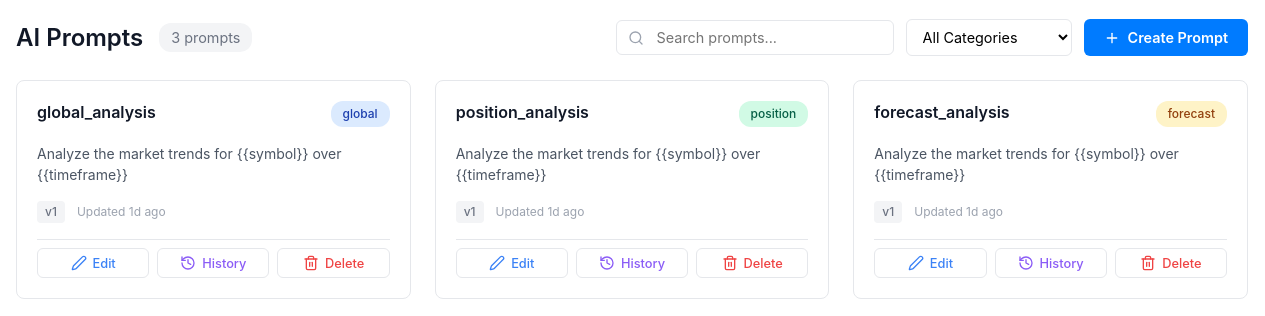
Scenario: PromptsManager › Search and Filter › should filter prompts by category
Expected: the heading "global_analysis" is shown, [37, 102, 156, 122]
Expected: the heading "position_analysis" is shown, [456, 102, 589, 122]
Note: Find and click category filter
Step 1. Select "Global Analysis" in the dropdown named "Category" → (988, 38), box [906, 19, 1072, 56]
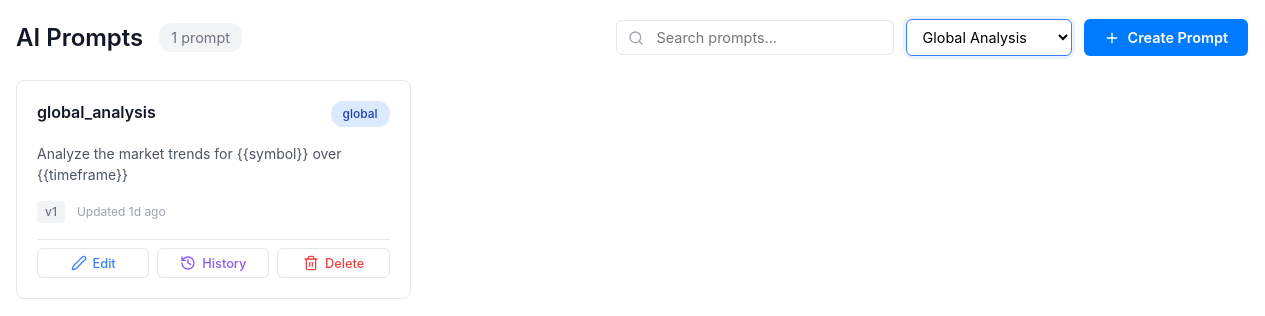
Expected: the heading "global_analysis" is shown, [37, 102, 156, 122]
Expected: the heading "position_analysis" is gone
Expected: the heading "forecast_analysis" is gone
